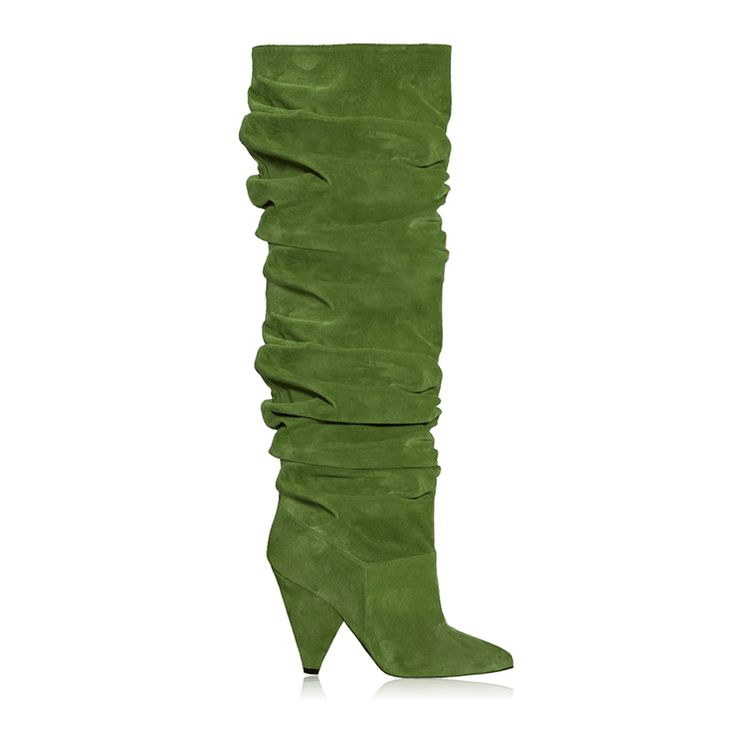gamuza: (239, 42, 514, 677)
